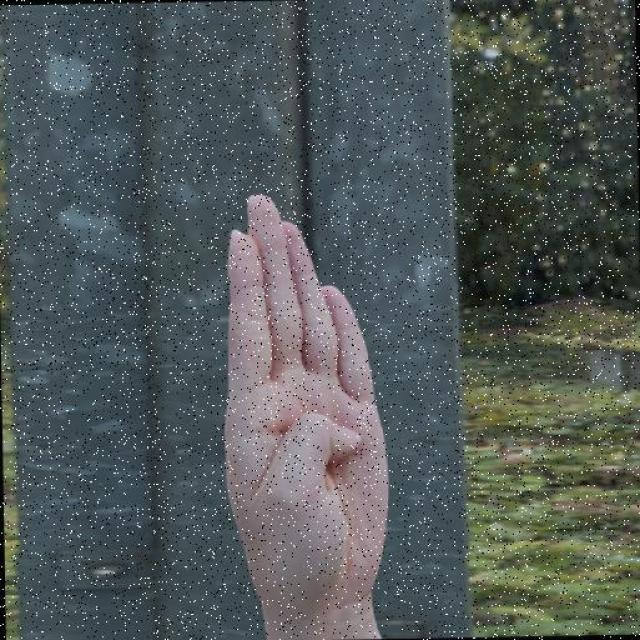B: (210, 181, 406, 640)
